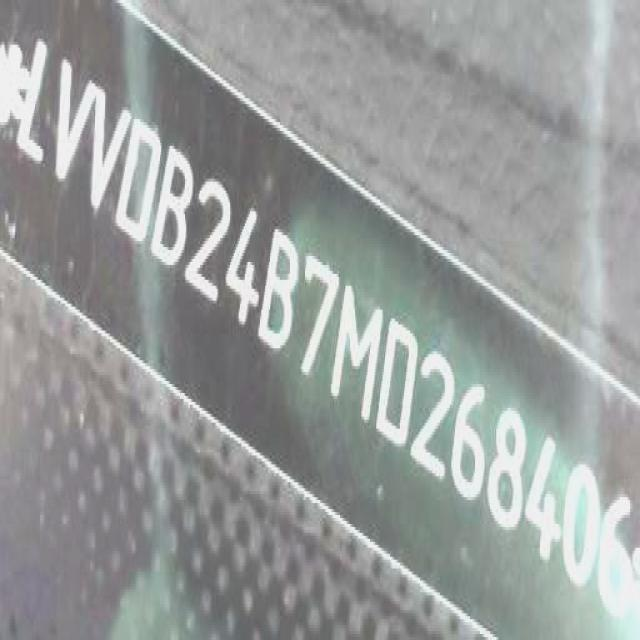0: (558, 450, 606, 600)
2: (184, 158, 239, 314), (410, 339, 462, 488), (520, 422, 570, 572)
4: (220, 185, 270, 341)
6: (446, 365, 498, 514), (594, 478, 640, 627)
7: (294, 237, 346, 401)
8: (483, 392, 534, 538)
B: (149, 126, 201, 280), (258, 213, 308, 364)
D: (111, 101, 166, 258), (373, 308, 428, 465)
L: (11, 30, 50, 179)
M: (329, 284, 388, 433)
V: (69, 70, 135, 234), (47, 47, 108, 200)
